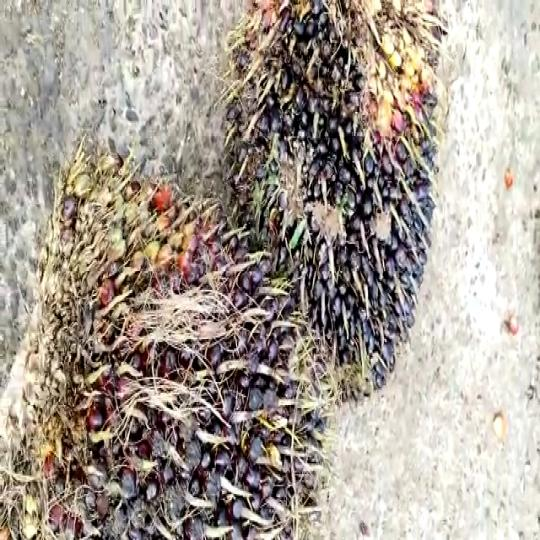mentah: (0, 143, 330, 540), (217, 0, 453, 416)
